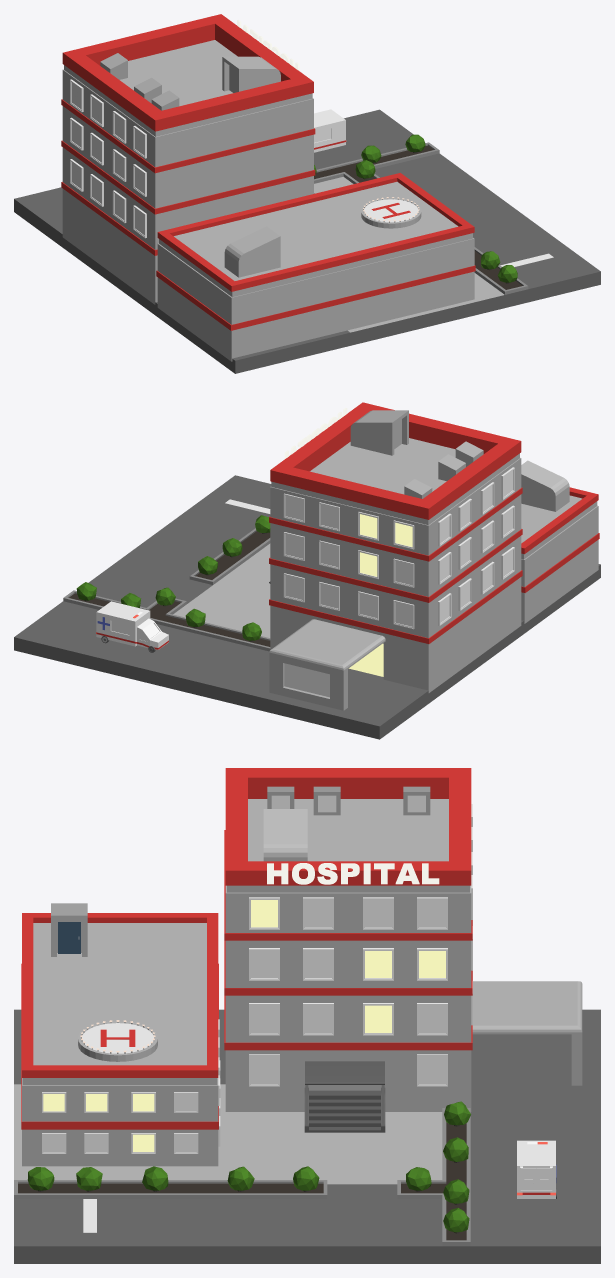
File: hospital_splano.glb
3 views of the same model, one above another, from view 1: azimuth 30°, elevation 25°; view 2: azimuth 150°, elevation 25°; view 3: azimuth 270°, elevation 25° (orthographic). The views are drawn at different scales.
Parts seen in each view (by area): view 1: first case, second case, yard, window.011, door upstairs.001, door upstairs, bushes, for the helicopter, ventilation, car; view 2: first case, yard, window.011, second case, car, bushes, door upstairs, door upstairs.001, ventilation; view 3: yard, first case, second case, window.011, stairs, bushes, for the helicopter, door upstairs, Text, car, door upstairs.001, ventilation (+1 smaller).
Part boxes in pixels (left/top/right/bottom): first case: left=61, top=14, right=315, bottom=304; second case: left=156, top=173, right=475, bottom=361; yard: left=14, top=109, right=600, bottom=373; window.011: left=70, top=79, right=146, bottom=238; door upstairs.001: left=224, top=226, right=280, bottom=277; door upstairs: left=222, top=56, right=280, bottom=92; bushes: left=314, top=134, right=517, bottom=283; for the helicopter: left=361, top=197, right=421, bottom=228; ventilation: left=100, top=53, right=179, bottom=110; car: left=314, top=109, right=346, bottom=152; first case: left=269, top=402, right=522, bottom=710; yard: left=14, top=475, right=600, bottom=739; window.011: left=283, top=467, right=514, bottom=629; second case: left=521, top=487, right=599, bottom=623; car: left=96, top=601, right=168, bottom=649; bushes: left=76, top=515, right=270, bottom=641; door upstairs: left=350, top=410, right=408, bottom=455; door upstairs.001: left=521, top=460, right=569, bottom=511; ventilation: left=404, top=441, right=483, bottom=498; yard: left=14, top=1009, right=600, bottom=1263; first case: left=224, top=768, right=582, bottom=1111; second case: left=21, top=913, right=218, bottom=1166; window.011: left=42, top=804, right=472, bottom=1153; stairs: left=304, top=1061, right=385, bottom=1132; bushes: left=27, top=1101, right=470, bottom=1233; for the helicopter: left=78, top=1020, right=157, bottom=1061; door upstairs: left=263, top=809, right=307, bottom=861; Text: left=267, top=863, right=439, bottom=884; car: left=517, top=1140, right=555, bottom=1198; door upstairs.001: left=51, top=903, right=87, bottom=956; ventilation: left=267, top=786, right=430, bottom=815.
Size of the model in its own units: 14.08 by 7.76 by 14.67.
